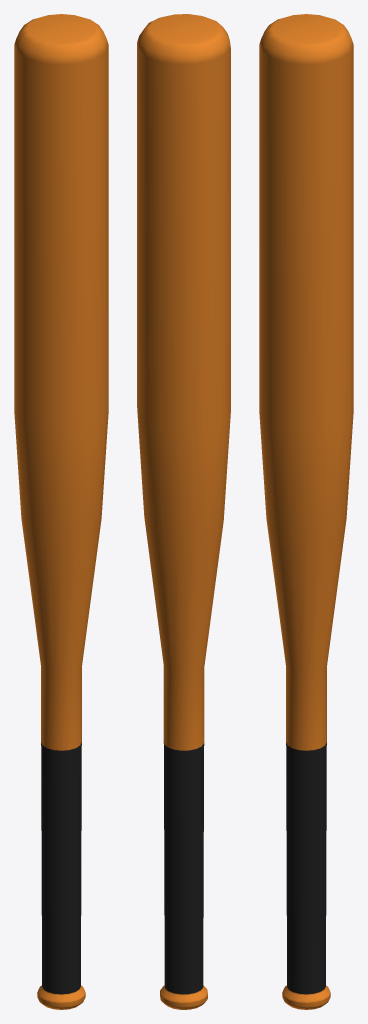
Rendered from sopa3.fbx.
The picture shows the model from 3 angles, left to right: view 1: azimuth 90°, elevation 25°; view 2: azimuth 150°, elevation 25°; view 3: azimuth 270°, elevation 25°; orthographic projection.
Parts seen in each view (by area): view 1: sopa_1; view 2: sopa_1; view 3: sopa_1.
Part boxes in pixels (x1=…): sopa_1: x1=14, y1=14, x2=108, y2=1009; sopa_1: x1=137, y1=14, x2=230, y2=1009; sopa_1: x1=259, y1=14, x2=353, y2=1009.
Bounding box in the file's own units: 0.1473 × 1.67 × 0.1473.
